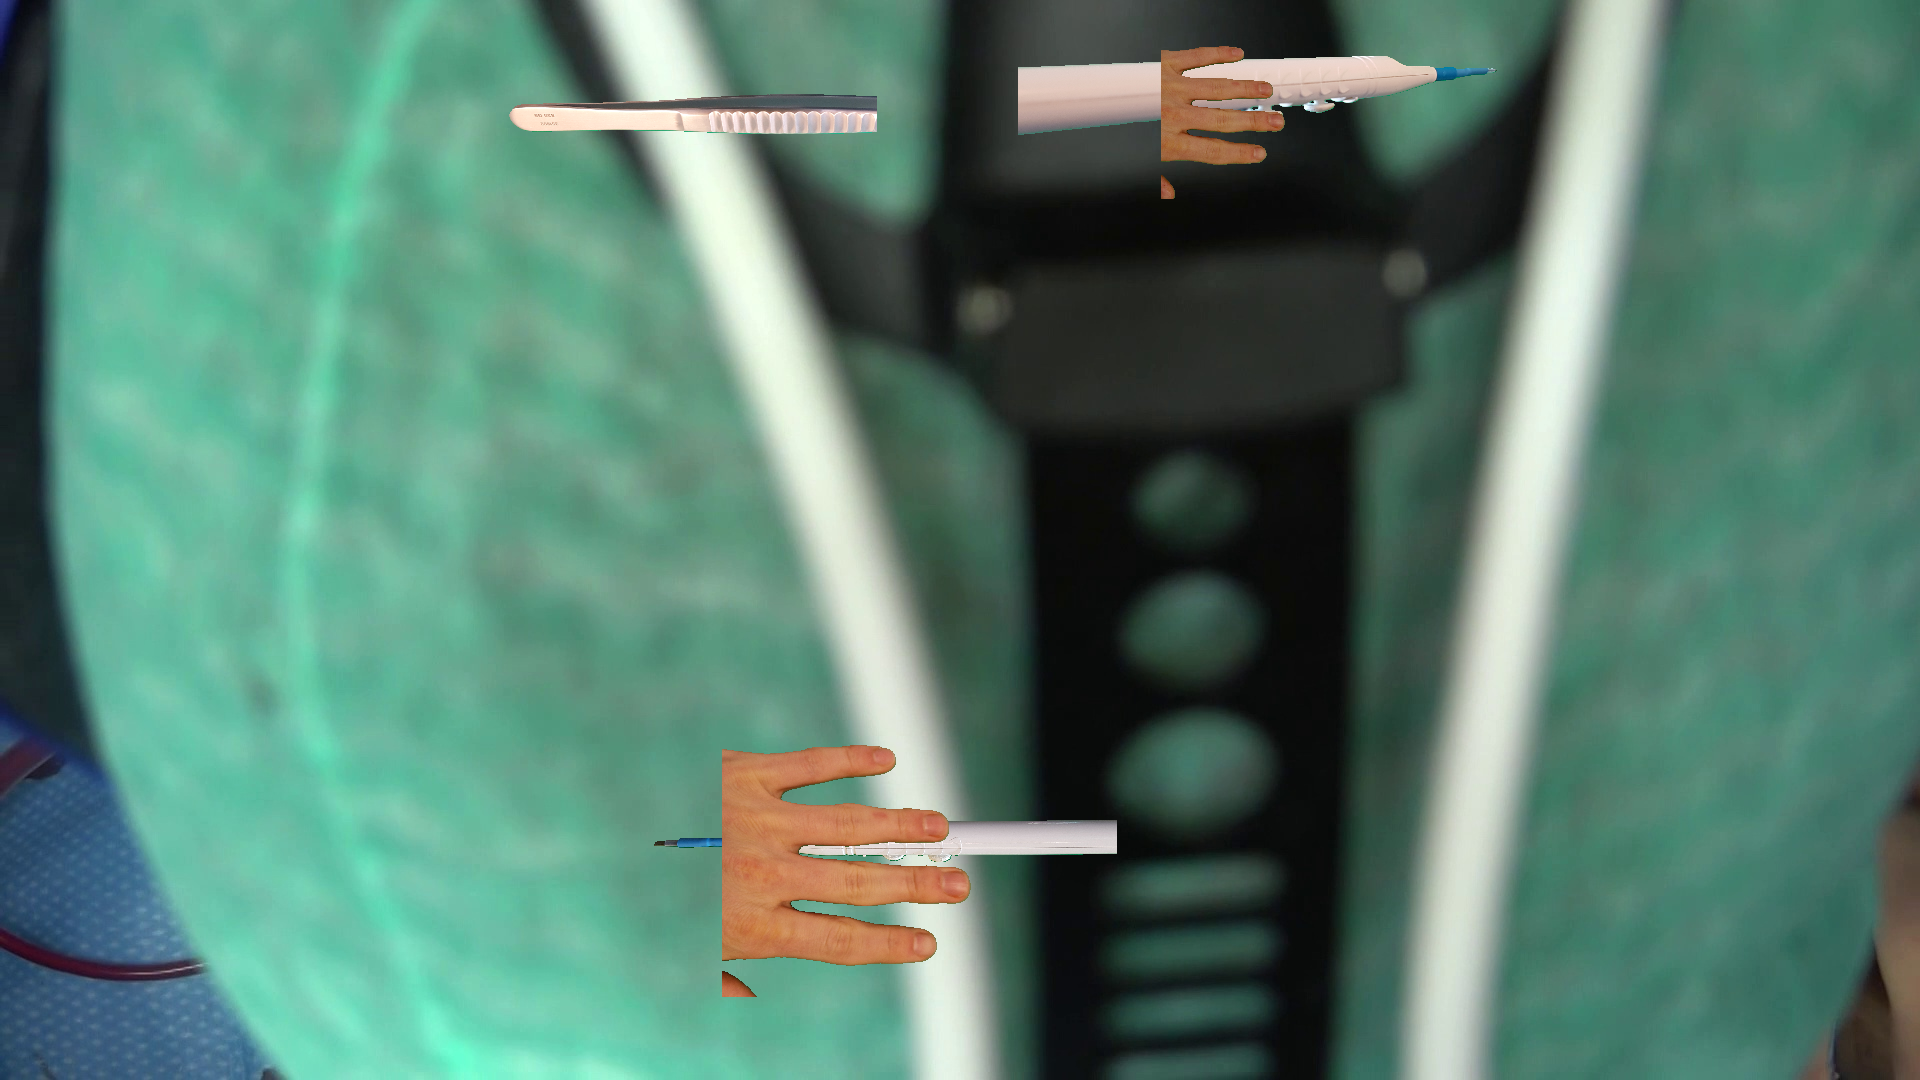diathermy: (1018, 55, 1495, 135), (654, 820, 1116, 861)
forceps: (509, 94, 876, 133)
